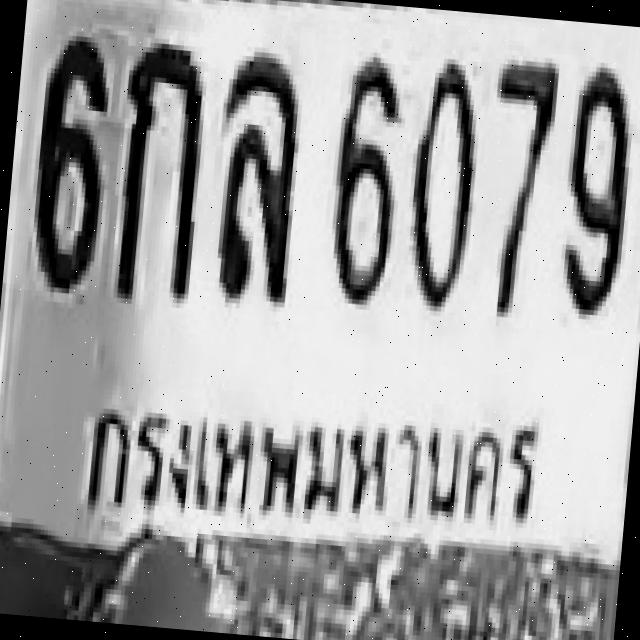0: (400, 56, 485, 313)
10GorGai: (109, 35, 210, 304)
45LorLing: (208, 50, 308, 302)
6: (24, 30, 114, 292), (322, 52, 406, 309)
7: (474, 55, 560, 317)
9: (552, 60, 638, 317)
Bangkok: (61, 370, 558, 562)
